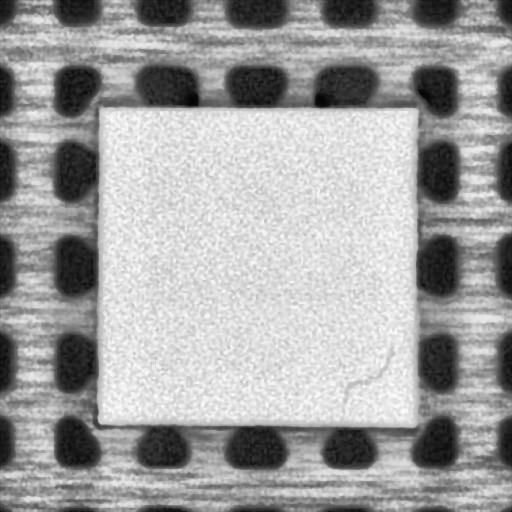DIE_CRACK: (336, 339, 395, 415)
